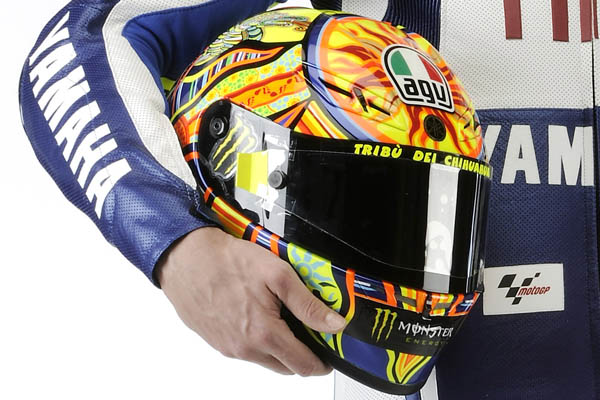helmet: (169, 5, 494, 354)
